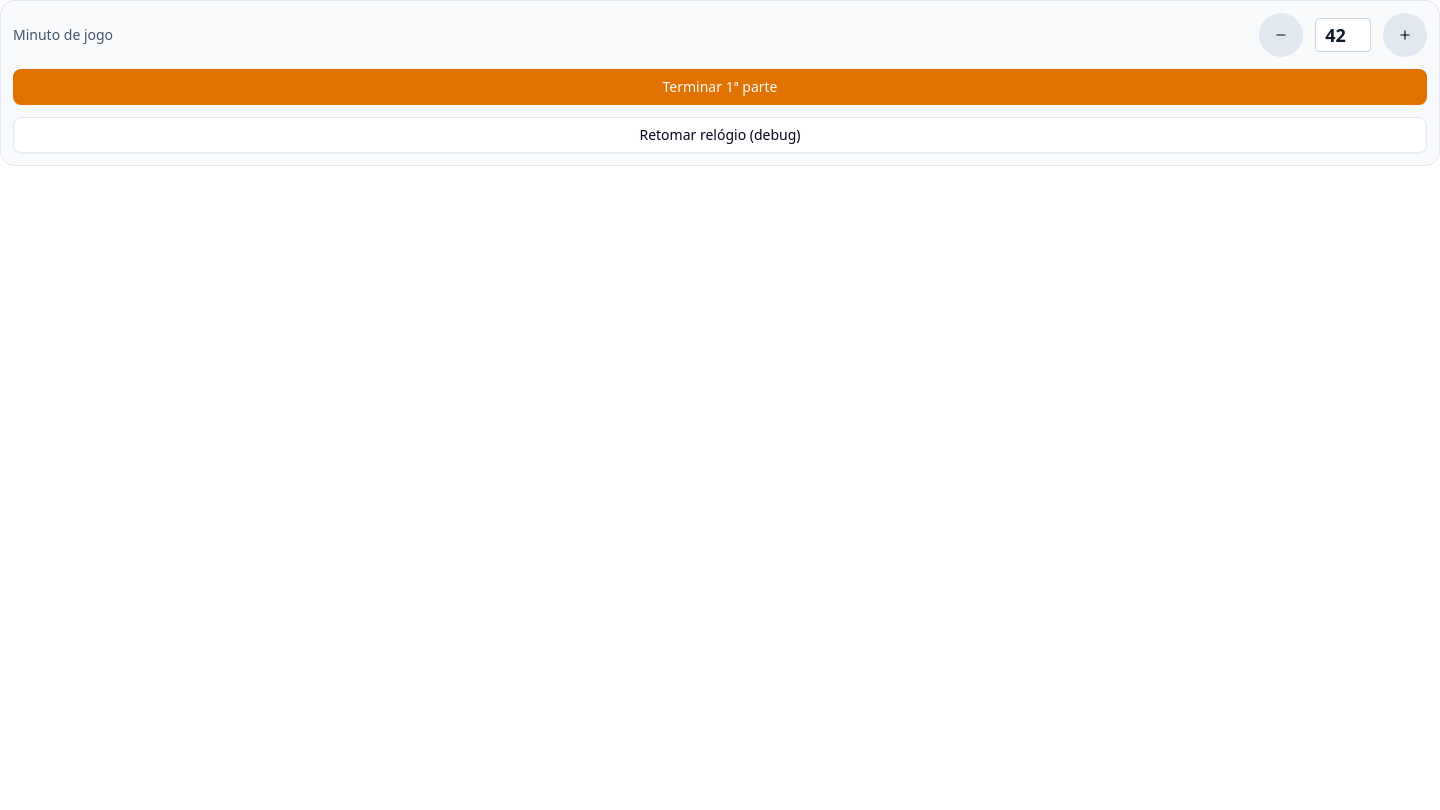
Test case: ClockControls — confirmation dialog › [#1] clicar 'Terminar 1ª parte' abre dialog com título e minuto na descrição
The width and height of the screenshot is (1440, 810).
Click the button "Terminar 1ª parte".
click(720, 87)  # box [13,69,1427,105]
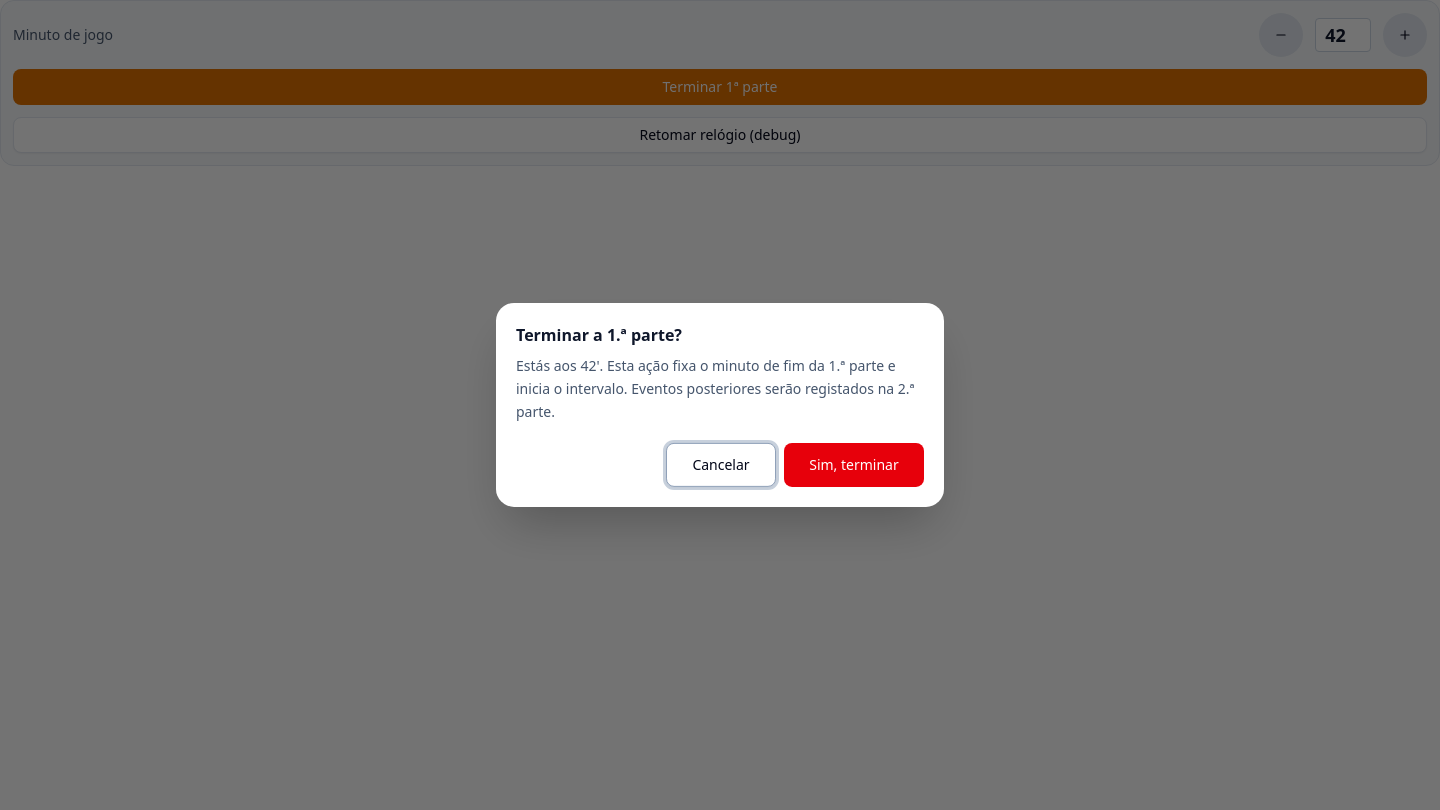
Check: the dialog is shown, box [496,303,944,507]
Check: the heading "Terminar a 1.ª parte?" is shown, box [516,324,682,346]
Check: the text "Estás aos 42'" is shown, box [516,356,914,420]
